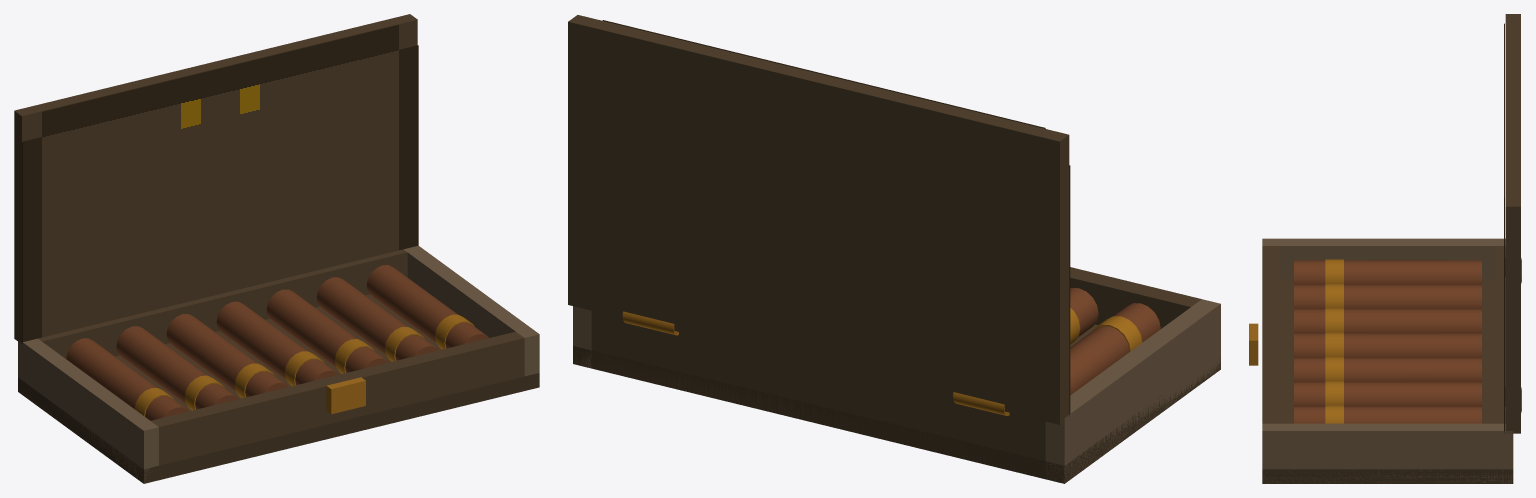
File: CMU3DRMCCigarCasePrintedSmallCloudOpenFullStudy.glb
The picture shows the model from 3 angles, left to right: view 1: azimuth 30°, elevation 25°; view 2: azimuth 150°, elevation 25°; view 3: azimuth 270°, elevation 25°; orthographic projection. The views are drawn at different scales.
Visible parts, largest first — view 1: original inside lid field, front case wall, case bottom panel, left case wall, rear case wall, raised physical open lid, right case wall, stored cylindrical cigar 3, stored cylindrical cigar 1, stored cylindrical cigar 6, stored cylindrical cigar 2, stored cylindrical cigar 4 (+4 smaller); view 2: raised physical open lid, rear case wall, left case wall, case bottom panel, front case wall, stored cylindrical cigar 0, original inside lid field, right case wall, stored cylindrical cigar 1, stored cigar gold band 0; view 3: right case wall, raised physical open lid, left case wall, stored cylindrical cigar 0, stored cylindrical cigar 3, stored cylindrical cigar 5, stored cylindrical cigar 1, stored cylindrical cigar 2, stored cylindrical cigar 4, recessed cedar liner, case bottom panel, front case wall (+11 smaller).
Boxes of the visible parts, x1=… form: original inside lid field: x1=22, y1=24, x2=418, y2=344; front case wall: x1=150, y1=331, x2=524, y2=465; case bottom panel: x1=18, y1=373, x2=539, y2=483; left case wall: x1=18, y1=338, x2=158, y2=483; rear case wall: x1=38, y1=249, x2=407, y2=358; raised physical open lid: x1=14, y1=14, x2=417, y2=343; right case wall: x1=404, y1=245, x2=539, y2=384; stored cylindrical cigar 3: x1=216, y1=301, x2=338, y2=384; stored cylindrical cigar 1: x1=116, y1=326, x2=238, y2=409; stored cylindrical cigar 6: x1=366, y1=265, x2=488, y2=348; stored cylindrical cigar 2: x1=166, y1=314, x2=288, y2=397; stored cylindrical cigar 4: x1=266, y1=289, x2=388, y2=372; raised physical open lid: x1=568, y1=15, x2=1069, y2=424; rear case wall: x1=591, y1=311, x2=1045, y2=478; left case wall: x1=1045, y1=299, x2=1220, y2=483; case bottom panel: x1=573, y1=346, x2=1220, y2=483; front case wall: x1=1070, y1=267, x2=1201, y2=328; stored cylindrical cigar 0: x1=1070, y1=303, x2=1160, y2=394; original inside lid field: x1=602, y1=20, x2=1070, y2=416; right case wall: x1=573, y1=306, x2=591, y2=368; stored cylindrical cigar 1: x1=1070, y1=288, x2=1098, y2=337; stored cigar gold band 0: x1=1093, y1=316, x2=1142, y2=351; right case wall: x1=1262, y1=423, x2=1513, y2=483; raised physical open lid: x1=1505, y1=14, x2=1520, y2=433; left case wall: x1=1262, y1=238, x2=1505, y2=278; stored cylindrical cigar 0: x1=1294, y1=260, x2=1481, y2=284; stored cylindrical cigar 3: x1=1294, y1=333, x2=1481, y2=357; stored cylindrical cigar 5: x1=1294, y1=382, x2=1481, y2=406; stored cylindrical cigar 1: x1=1294, y1=284, x2=1481, y2=308; stored cylindrical cigar 2: x1=1294, y1=309, x2=1481, y2=333; stored cylindrical cigar 4: x1=1294, y1=358, x2=1481, y2=382; recessed cedar liner: x1=1280, y1=278, x2=1495, y2=423; case bottom panel: x1=1262, y1=469, x2=1513, y2=483; front case wall: x1=1262, y1=246, x2=1279, y2=423.
Bounding box in the file's own units: 0.625 × 0.42 × 0.3745.
Materials: 6 (1 with a texture image).
